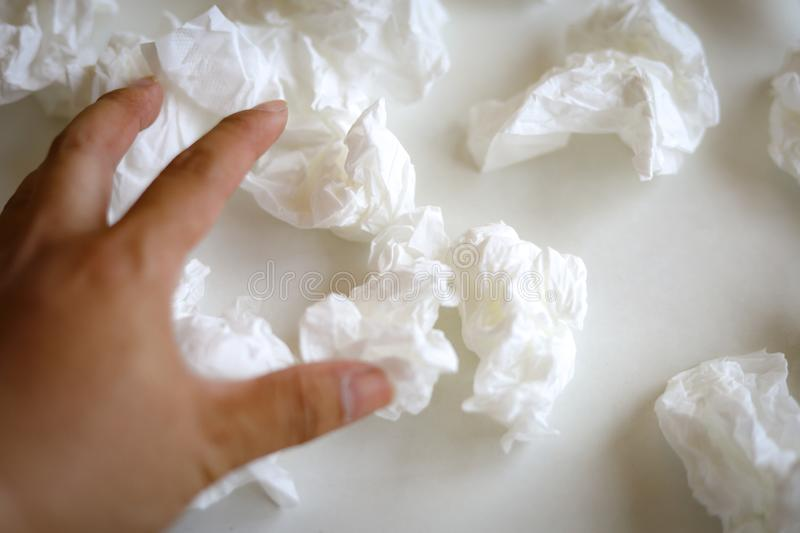Tissue: (457, 1, 726, 183), (450, 216, 591, 452), (652, 345, 798, 533)
